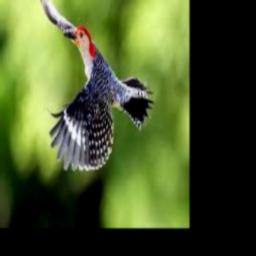Woodpecker: (38, 0, 153, 171)
